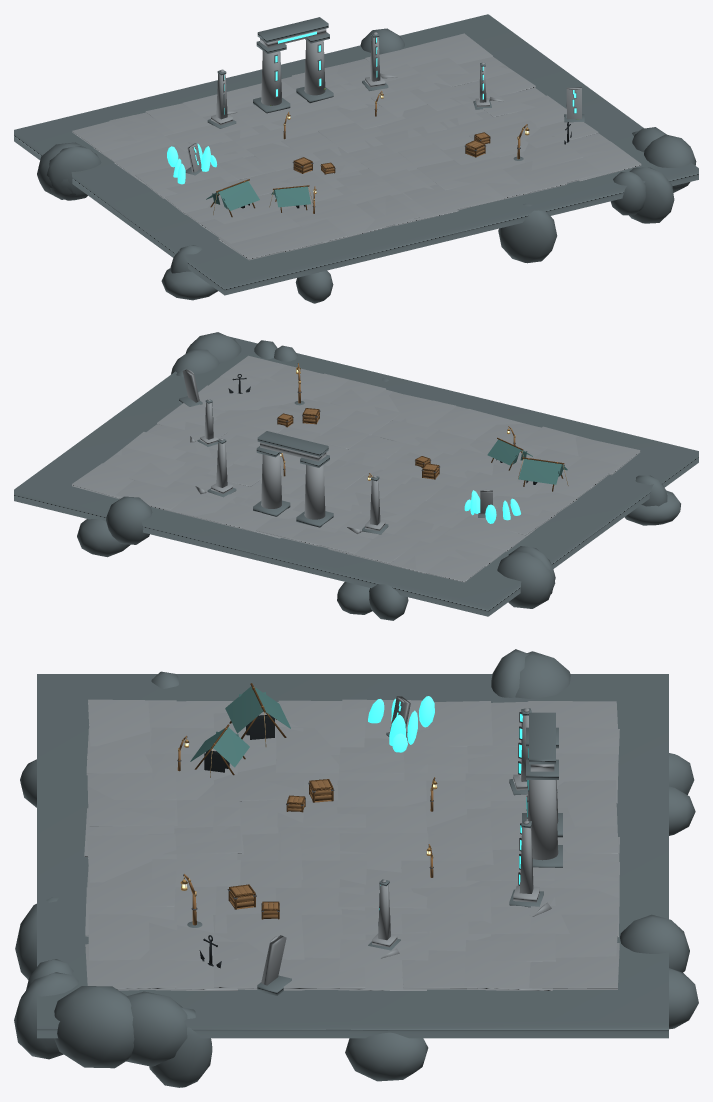
Rendered from 3D模型 scene_ruins_plaza.glb.
3 renders of one model, top to bottom at view 1: azimuth 30°, elevation 25°; view 2: azimuth 150°, elevation 25°; view 3: azimuth 270°, elevation 25°, orthographic. The views are drawn at different scales.
Parts seen in each view (by area): view 1: plaza_base, plaza_edge_05, plaza_edge_02, plaza_edge_09, slab_5_0, slab_8_0, plaza_edge_03, slab_0_3, slab_2_0, slab_9_0, slab_9_7, slab_0_0 (+76 smaller); view 2: plaza_base, plaza_edge_10, plaza_edge_00, slab_0_5, slab_7_7, slab_5_0, slab_9_7, slab_0_7, slab_8_0, plaza_edge_04, slab_2_7, slab_0_3 (+71 smaller); view 3: plaza_base, plaza_edge_03, plaza_edge_11, slab_5_0, plaza_edge_07, slab_8_0, slab_0_5, slab_9_7, slab_0_3, slab_5_4, slab_9_6, slab_7_7 (+85 smaller).
Boxes of the visible parts, x1,y1,x2,y2 form: plaza_base: (14, 14, 698, 295); plaza_edge_05: (498, 203, 557, 263); plaza_edge_02: (47, 146, 101, 200); plaza_edge_09: (629, 167, 674, 223); slab_5_0: (403, 184, 494, 214); slab_8_0: (512, 160, 602, 187); plaza_edge_03: (644, 134, 696, 192); slab_0_3: (165, 176, 229, 214); slab_2_0: (293, 204, 384, 243); slab_9_0: (570, 141, 641, 181); slab_9_7: (402, 33, 492, 64); slab_0_0: (218, 234, 309, 260); plaza_base: (14, 336, 698, 616); plaza_edge_10: (497, 551, 555, 608); plaza_edge_00: (106, 496, 152, 544); slab_0_5: (444, 515, 534, 551); slab_7_7: (147, 481, 236, 515); slab_5_0: (389, 392, 456, 427); slab_9_7: (72, 463, 135, 499); slab_0_7: (402, 549, 492, 582); slab_8_0: (270, 365, 348, 401); plaza_edge_04: (77, 519, 130, 557); slab_2_7: (328, 532, 419, 563); slab_0_3: (493, 492, 577, 516); plaza_base: (37, 674, 668, 1038); plaza_edge_03: (54, 986, 134, 1068); plaza_edge_11: (126, 991, 187, 1066); slab_5_0: (87, 834, 176, 882); plaza_edge_07: (345, 1032, 428, 1081); slab_8_0: (88, 914, 177, 960); slab_0_5: (415, 701, 492, 746); slab_9_7: (529, 943, 619, 989); slab_0_3: (278, 700, 366, 747); slab_5_4: (339, 833, 428, 872); slab_9_6: (464, 940, 552, 990); slab_7_7: (530, 887, 619, 937).
Size of the model in its own units: 27.86 by 6.97 by 21.68.
